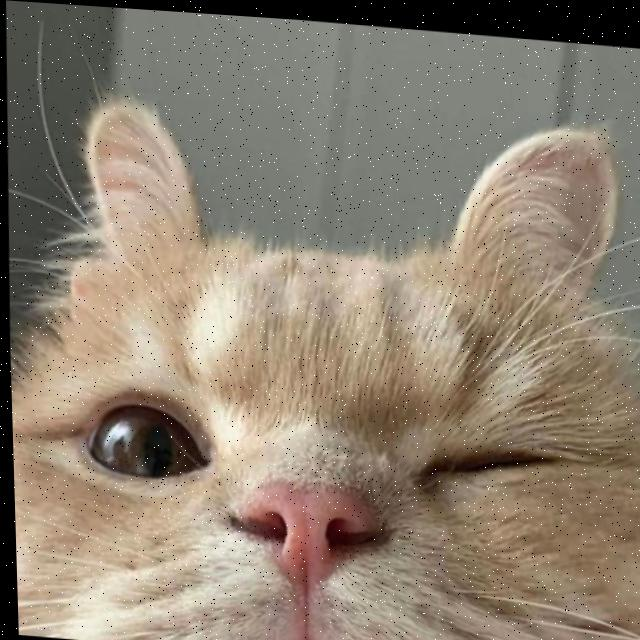Cats: (1, 57, 640, 640)
